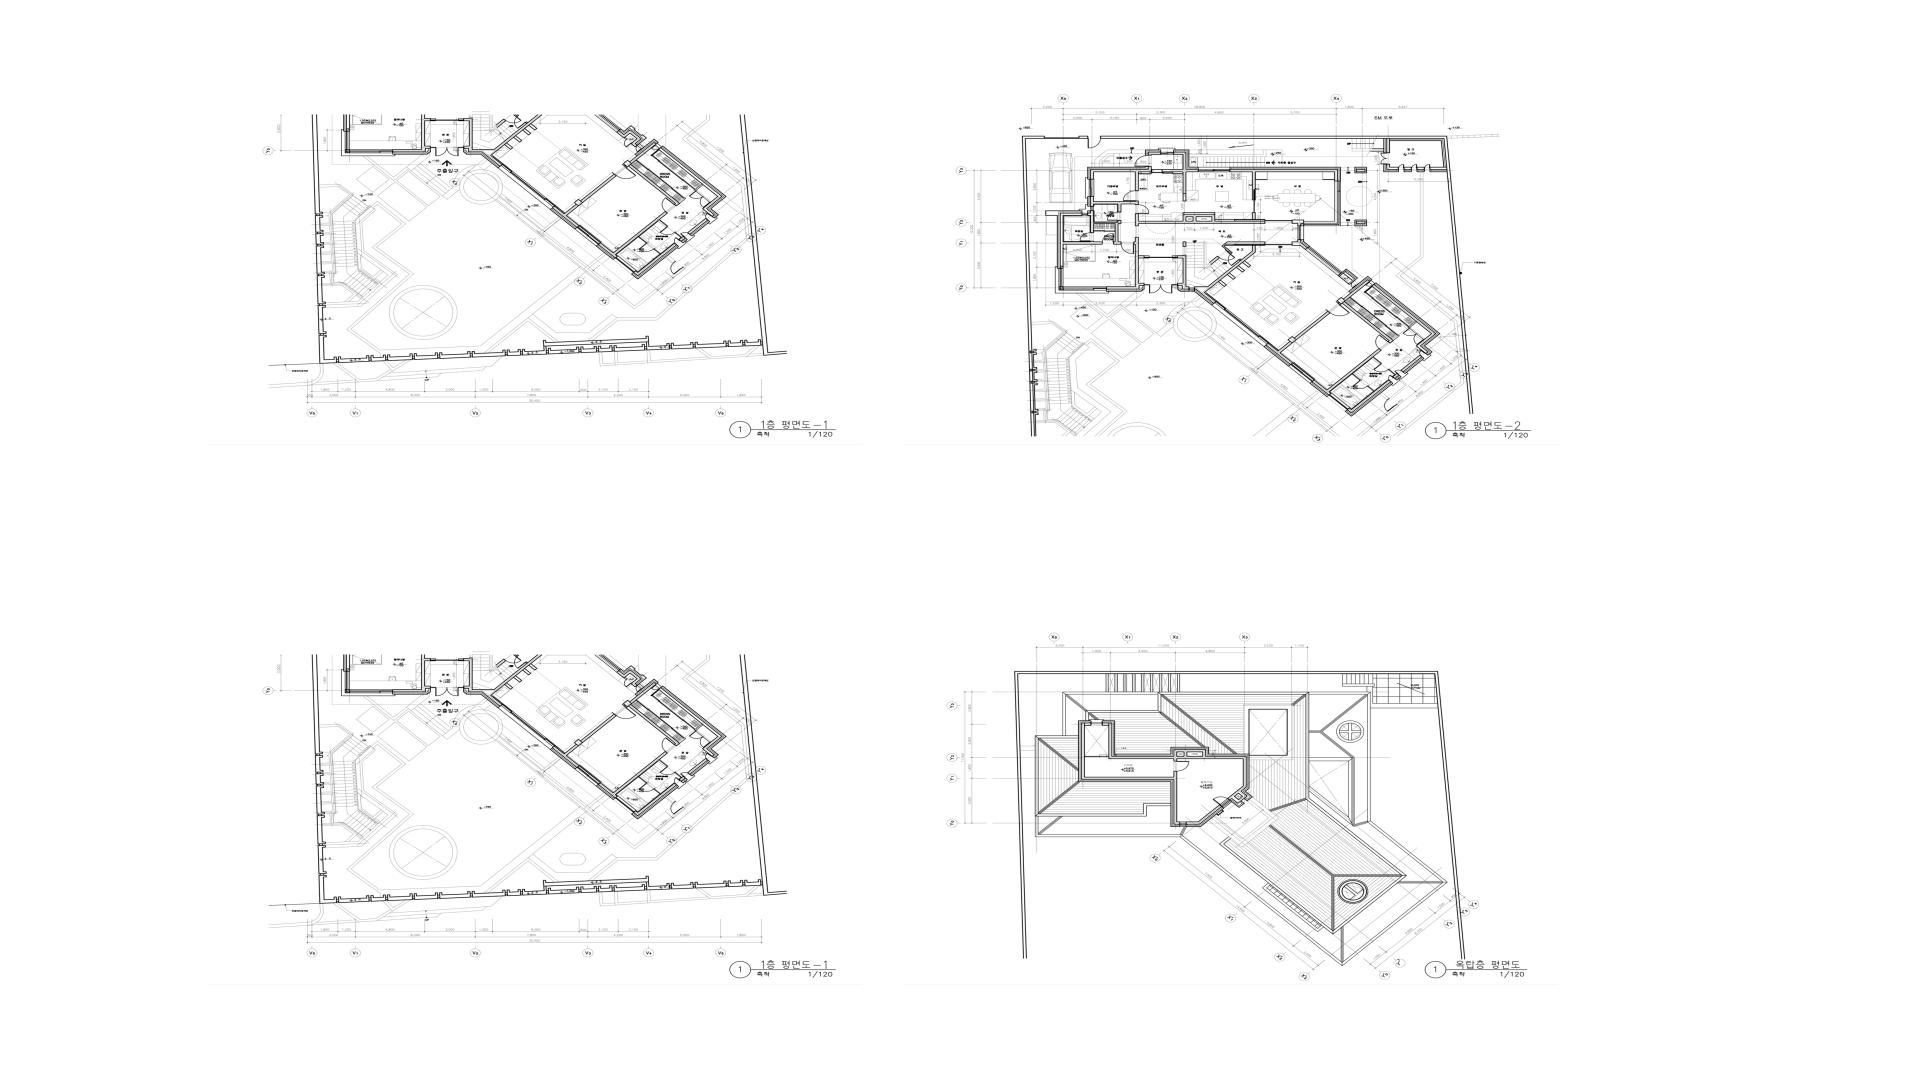door: (615, 705, 637, 724), (1328, 303, 1350, 320), (615, 166, 637, 183), (657, 737, 676, 753), (1370, 335, 1390, 351), (657, 196, 676, 212), (1213, 793, 1232, 808), (1217, 249, 1236, 264), (435, 687, 459, 696), (435, 146, 459, 156), (640, 782, 655, 795), (659, 765, 675, 778), (1224, 252, 1240, 265), (1150, 284, 1172, 293), (1373, 363, 1390, 375), (1353, 380, 1369, 392), (640, 243, 655, 255), (659, 225, 675, 237), (1134, 156, 1151, 166), (1174, 761, 1189, 771), (1088, 136, 1101, 148), (1121, 241, 1134, 253), (1234, 219, 1292, 222), (1124, 191, 1139, 200), (1135, 204, 1150, 214), (1106, 212, 1121, 220), (1080, 233, 1095, 241), (1102, 233, 1113, 244), (621, 678, 632, 687), (621, 138, 632, 148), (1251, 189, 1255, 212), (1145, 256, 1178, 258), (431, 658, 463, 661), (1381, 153, 1389, 164), (431, 119, 463, 121), (1183, 193, 1187, 212), (1234, 244, 1292, 245), (1151, 171, 1172, 174)
wall: (1180, 835, 1342, 967), (1220, 841, 1333, 935), (1342, 882, 1448, 967), (1435, 674, 1465, 960), (1444, 138, 1473, 414), (1305, 798, 1407, 876), (1367, 820, 1448, 882), (1333, 876, 1407, 935), (1014, 671, 1027, 959), (1371, 284, 1433, 334), (658, 687, 720, 736), (658, 148, 720, 196), (1327, 348, 1382, 392), (487, 654, 542, 698), (613, 211, 669, 255), (613, 752, 669, 794), (487, 115, 542, 157), (1022, 138, 1033, 351), (1342, 302, 1394, 343), (629, 704, 678, 744), (629, 165, 678, 203), (1208, 251, 1255, 289), (633, 782, 679, 819), (633, 243, 679, 280), (1352, 380, 1391, 411), (1209, 816, 1249, 847), (1018, 671, 1439, 674), (1294, 311, 1331, 340), (580, 713, 617, 742), (1305, 247, 1342, 276), (580, 174, 617, 203), (1101, 136, 1448, 138), (1247, 796, 1279, 822), (1244, 818, 1274, 843), (1063, 692, 1309, 695), (1266, 343, 1292, 365), (553, 745, 579, 767), (629, 682, 657, 703), (629, 142, 657, 164), (1029, 351, 1035, 436), (1199, 804, 1224, 827), (1344, 280, 1370, 301), (553, 206, 579, 227), (1367, 692, 1371, 822), (1079, 777, 1171, 782), (595, 654, 618, 673), (1305, 692, 1309, 799), (595, 115, 618, 132), (1035, 835, 1182, 837), (1400, 355, 1423, 372), (1287, 704, 1294, 760), (1116, 753, 1171, 760), (702, 194, 723, 211), (687, 218, 708, 235), (1079, 725, 1085, 777), (702, 735, 723, 750), (687, 758, 708, 774), (1244, 704, 1250, 754), (1171, 777, 1178, 827), (1312, 380, 1332, 396), (599, 782, 618, 798), (599, 243, 618, 258), (1085, 709, 1162, 713), (1139, 220, 1212, 224), (1230, 169, 1338, 171), (1035, 814, 1143, 816), (1228, 786, 1246, 800), (1419, 331, 1436, 345), (1060, 212, 1064, 269), (1035, 736, 1038, 816), (1250, 704, 1287, 709), (1250, 754, 1287, 760), (1109, 725, 1116, 754), (1204, 256, 1220, 268), (1209, 753, 1244, 758), (1135, 237, 1139, 282), (488, 695, 502, 707), (564, 744, 579, 756), (1171, 746, 1203, 752), (1309, 692, 1370, 695), (1278, 342, 1292, 352), (488, 156, 502, 166), (564, 204, 579, 215), (1203, 293, 1217, 303), (1095, 169, 1151, 171), (1246, 753, 1250, 789), (1216, 222, 1266, 224), (1230, 798, 1242, 808), (421, 654, 425, 686), (1171, 756, 1203, 760), (1352, 148, 1383, 152), (421, 115, 425, 145), (1063, 692, 1065, 736), (1035, 736, 1079, 738), (630, 676, 642, 686), (1241, 793, 1253, 802), (1416, 344, 1428, 353), (1183, 255, 1187, 282), (1095, 202, 1135, 204), (1226, 241, 1266, 244), (1064, 241, 1102, 244), (1162, 169, 1199, 171), (1344, 272, 1354, 281), (630, 137, 642, 145), (1244, 753, 1246, 787), (1183, 171, 1187, 194), (481, 149, 495, 156), (1106, 286, 1139, 289), (1089, 222, 1122, 224), (1221, 836, 1232, 844), (1185, 822, 1201, 827), (704, 749, 715, 757), (704, 208, 715, 216), (1222, 245, 1233, 253), (1195, 289, 1211, 294), (1135, 171, 1139, 191), (1203, 746, 1209, 758), (1158, 695, 1162, 713), (469, 658, 472, 686), (393, 690, 421, 692), (630, 671, 640, 679), (574, 738, 583, 746), (638, 775, 647, 783), (513, 675, 522, 683), (1373, 356, 1382, 364), (1337, 297, 1346, 305), (469, 117, 472, 145), (393, 149, 421, 152), (504, 142, 513, 150), (522, 128, 531, 136), (659, 219, 669, 227), (694, 183, 703, 191), (622, 160, 632, 167), (1064, 212, 1083, 216), (1204, 241, 1207, 268), (481, 690, 495, 695), (1102, 720, 1116, 725), (1079, 720, 1092, 725), (1114, 224, 1118, 241), (1183, 152, 1187, 169), (1150, 674, 1154, 691), (345, 654, 349, 671), (1429, 166, 1447, 170), (345, 115, 349, 132), (1187, 214, 1212, 216), (1089, 210, 1095, 222), (1292, 219, 1304, 224), (1218, 280, 1226, 287), (1237, 265, 1245, 273), (1147, 803, 1171, 806), (1408, 320, 1416, 328), (1242, 261, 1251, 268), (1287, 336, 1296, 343), (1352, 373, 1361, 380), (621, 671, 630, 678), (504, 683, 513, 690), (522, 669, 531, 675), (529, 663, 538, 670), (659, 760, 669, 766), (694, 724, 703, 731), (650, 690, 659, 696), (622, 700, 632, 707), (1236, 799, 1245, 806), (1238, 790, 1247, 796), (1364, 286, 1373, 293), (1337, 270, 1346, 277), (621, 132, 630, 138), (630, 132, 640, 138), (574, 199, 583, 206), (638, 236, 647, 243), (513, 136, 522, 142), (529, 124, 538, 131), (650, 149, 659, 156), (1022, 136, 1044, 138), (1386, 138, 1390, 153), (1228, 273, 1236, 280), (1367, 385, 1375, 392), (616, 670, 624, 676), (674, 771, 682, 778), (1143, 803, 1147, 816), (1386, 166, 1399, 170), (1348, 278, 1356, 285), (1300, 243, 1308, 249), (1035, 816, 1038, 835), (1106, 674, 1109, 692), (1114, 674, 1117, 692), (1133, 674, 1135, 692), (1159, 674, 1162, 692), (1178, 674, 1180, 692), (1089, 224, 1095, 233), (1135, 214, 1139, 225), (1124, 674, 1126, 691), (1142, 674, 1145, 691), (1168, 674, 1171, 691), (1183, 212, 1216, 214), (679, 737, 686, 744), (679, 775, 686, 782), (654, 248, 661, 255), (1091, 196, 1095, 207), (1091, 169, 1095, 179), (1212, 214, 1216, 224), (1085, 709, 1089, 720), (1346, 407, 1354, 413), (421, 145, 431, 149), (616, 131, 624, 136), (674, 232, 682, 237), (1195, 286, 1211, 289), (1335, 171, 1338, 181), (1292, 241, 1302, 245), (1149, 152, 1162, 154), (1389, 369, 1395, 375), (468, 690, 481, 692), (674, 741, 680, 746), (654, 789, 661, 794), (632, 810, 638, 815), (1109, 754, 1116, 760), (1393, 373, 1399, 378), (468, 149, 481, 152), (679, 198, 686, 203), (632, 270, 638, 276), (679, 236, 686, 241), (1221, 241, 1228, 247), (421, 686, 431, 688), (1233, 796, 1238, 802), (1183, 214, 1187, 220), (1244, 787, 1250, 791), (1171, 752, 1178, 756), (674, 202, 680, 206), (1251, 245, 1255, 252), (1174, 152, 1183, 154), (1403, 166, 1412, 169), (1416, 166, 1425, 169), (1079, 136, 1088, 138), (1118, 204, 1121, 212), (1183, 241, 1187, 247), (421, 688, 426, 692), (628, 670, 633, 674), (633, 683, 638, 687), (1240, 796, 1245, 800), (1174, 771, 1178, 777), (1183, 247, 1185, 255), (463, 145, 468, 149), (628, 129, 633, 133), (633, 144, 638, 148), (1182, 286, 1189, 289), (1182, 282, 1187, 286), (1139, 282, 1145, 286), (1113, 241, 1121, 244), (463, 658, 469, 661), (425, 658, 431, 661), (463, 119, 469, 121), (425, 119, 431, 121), (1135, 200, 1139, 204), (468, 686, 472, 690), (1192, 216, 1196, 220), (468, 145, 472, 149), (1178, 282, 1182, 286), (1135, 282, 1139, 286), (463, 686, 468, 688), (1178, 822, 1180, 827), (421, 149, 426, 152), (1178, 256, 1183, 258), (1139, 256, 1145, 258), (1147, 166, 1151, 169), (624, 705, 628, 708), (1184, 752, 1187, 756), (1386, 164, 1390, 166), (624, 165, 628, 167), (1298, 239, 1302, 241), (1389, 340, 1391, 343), (1338, 302, 1341, 305), (1225, 249, 1228, 252), (1238, 258, 1241, 261), (1172, 284, 1178, 285), (1147, 154, 1151, 156), (1298, 224, 1302, 225), (431, 687, 435, 688), (459, 687, 463, 688), (1174, 760, 1178, 761), (431, 146, 435, 148), (459, 146, 463, 148), (1145, 284, 1149, 285), (1088, 212, 1089, 215), (1134, 241, 1135, 244), (1118, 220, 1121, 222), (1091, 241, 1095, 241)
window: (498, 164, 555, 210), (498, 704, 555, 749), (1215, 301, 1269, 344), (1304, 181, 1341, 225), (1288, 361, 1316, 384), (575, 224, 601, 247), (575, 765, 601, 786), (613, 256, 636, 274), (613, 796, 636, 814), (1329, 393, 1350, 409), (1059, 286, 1106, 290), (349, 690, 393, 694), (349, 149, 393, 153), (1199, 167, 1230, 171), (344, 671, 349, 694), (344, 132, 349, 153), (671, 777, 683, 786), (680, 770, 692, 779), (703, 753, 715, 762), (1394, 368, 1406, 377), (671, 237, 683, 247), (680, 231, 692, 240), (703, 212, 715, 222), (633, 683, 644, 692), (1418, 349, 1428, 359), (1089, 179, 1095, 196), (1387, 375, 1396, 384), (651, 683, 662, 691), (651, 144, 662, 152), (633, 144, 644, 152), (1365, 281, 1375, 287), (1059, 269, 1063, 286), (1298, 225, 1302, 239), (1349, 282, 1357, 287), (1399, 164, 1404, 170), (1162, 152, 1174, 154), (1180, 822, 1185, 827), (1092, 723, 1101, 725), (1412, 164, 1416, 169), (1425, 164, 1429, 169), (1189, 287, 1195, 291), (1091, 207, 1095, 211), (1083, 212, 1088, 215)
